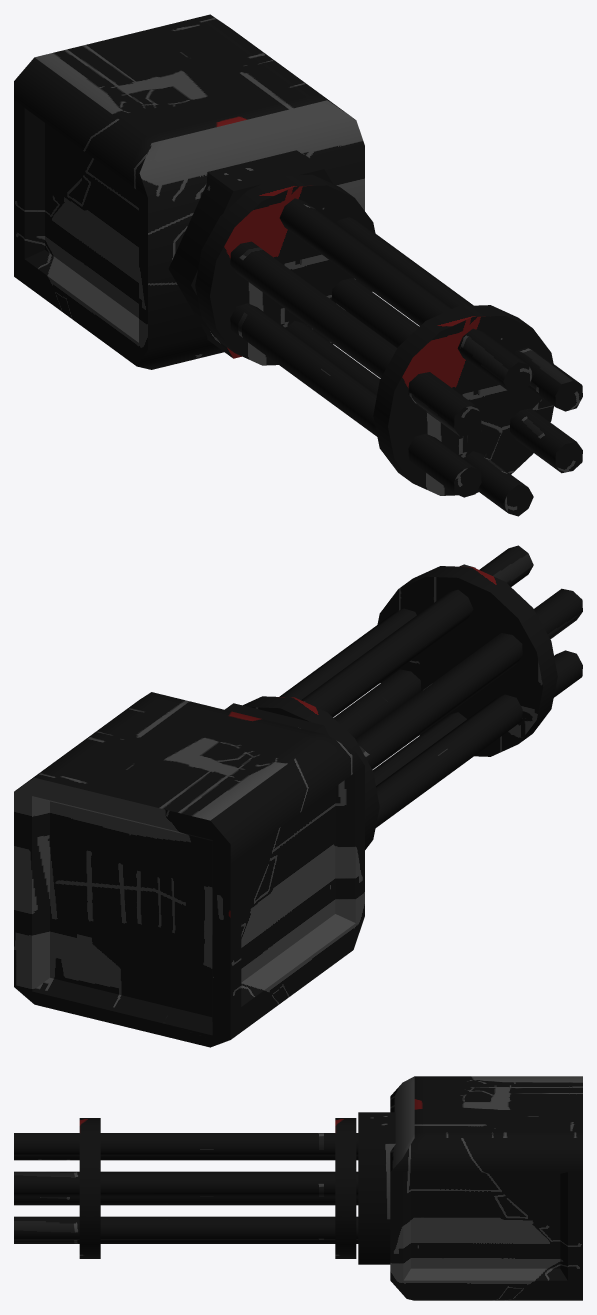
Rendered from PDC.fbx.
3 views of the same model, one above another, from view 1: azimuth 30°, elevation 25°; view 2: azimuth 150°, elevation 25°; view 3: azimuth 270°, elevation 25° (orthographic). The views are drawn at different scales.
Parts seen in each view (by area): view 1: PDC_LOD0; view 2: PDC_LOD0; view 3: PDC_LOD0.
Part boxes in pixels (left/top/right/bottom): PDC_LOD0: left=14, top=14, right=582, bottom=516; PDC_LOD0: left=14, top=545, right=582, bottom=1047; PDC_LOD0: left=14, top=1076, right=582, bottom=1300.
Size of what is drawn, in the model's own units: 100 by 100 by 316.
